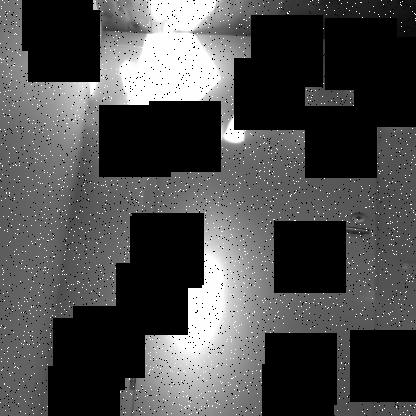Porte: (114, 30, 382, 416)
